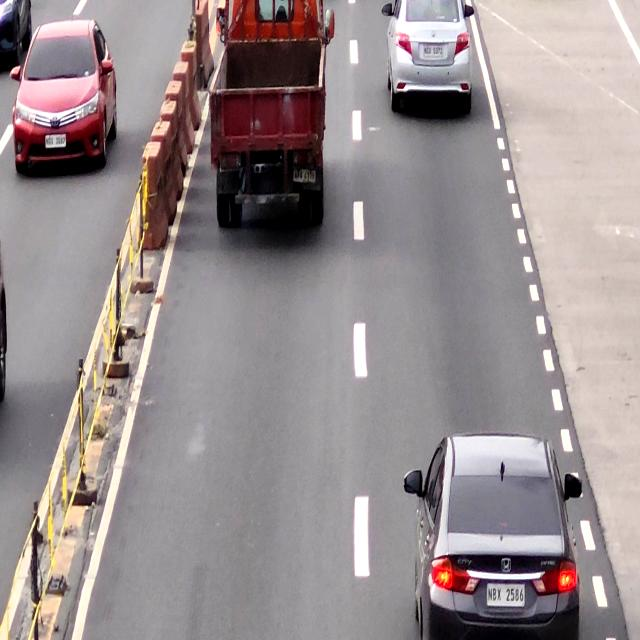Car: (403, 428, 582, 640), (382, 0, 475, 121)
License-Plate: (486, 582, 525, 607), (292, 166, 317, 185), (424, 44, 443, 58)
Truck: (205, 0, 334, 227)
